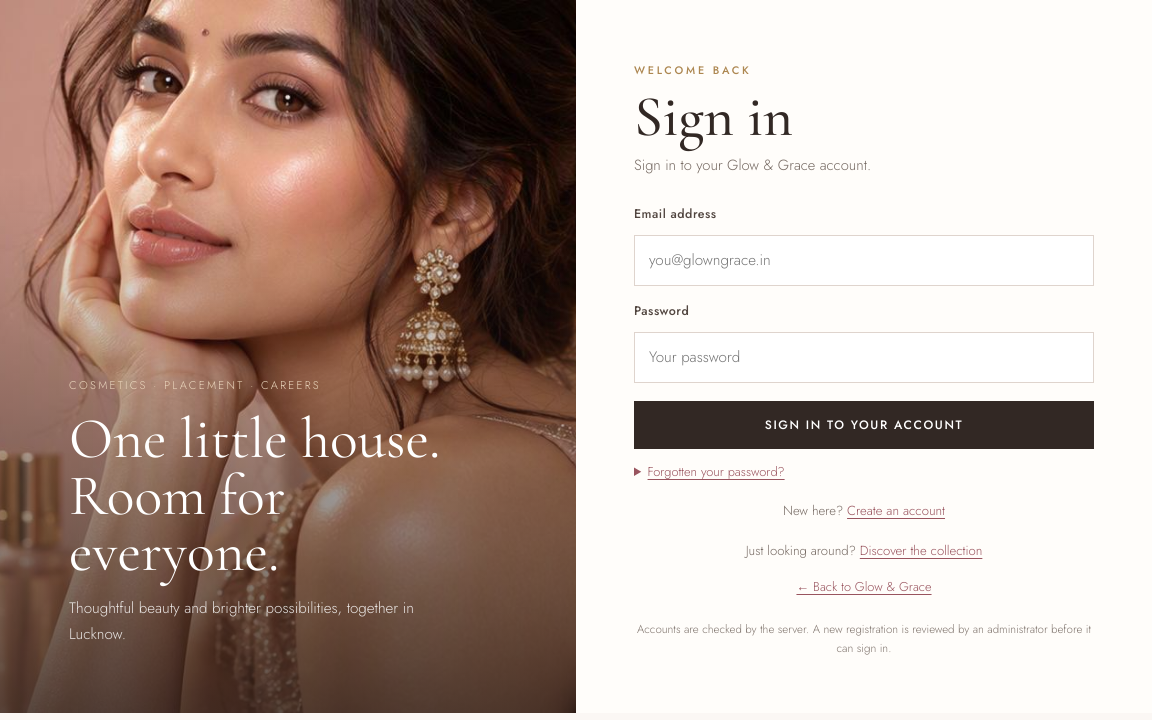
Test: console sign-in and session lifetime › reports the server reason when the address does not match an account
Type "candidate@glowngrace.in" into the field labelled "Email address".
click(864, 260); type("candidate@glowngrace.in")  # box [634, 235, 1094, 286]
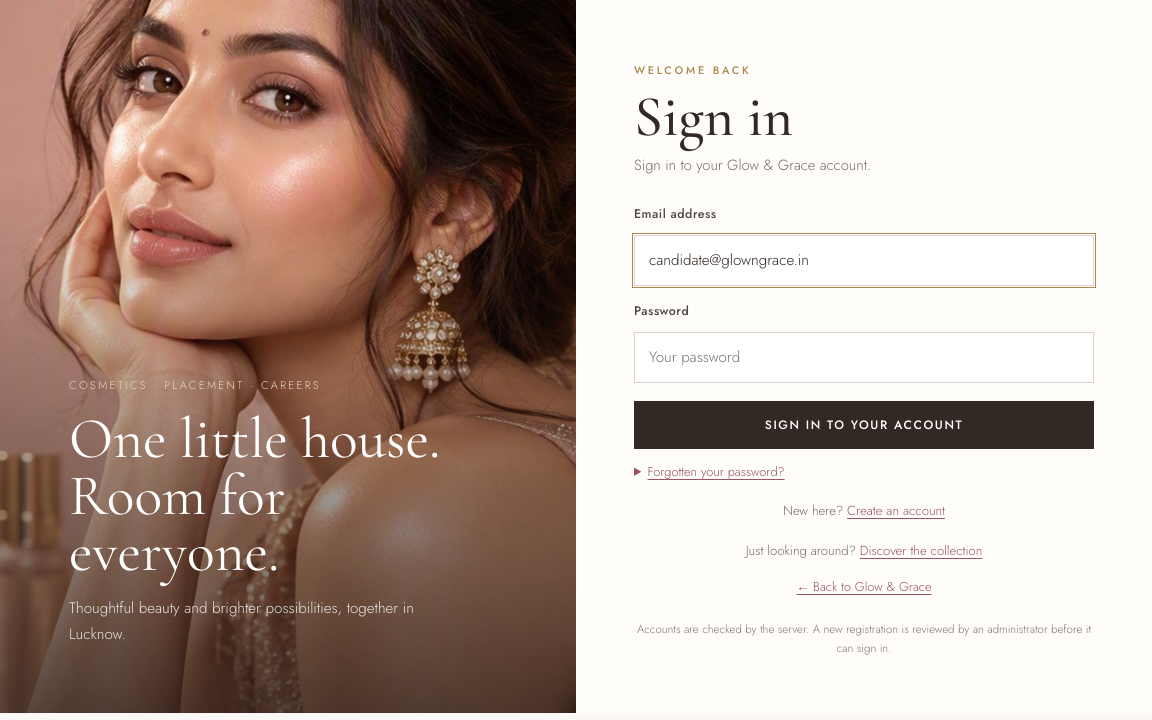
Type "a-password-nobody-has" into the password field labelled "Password".
click(864, 358); type("a-password-nobody-has")  # box [634, 332, 1094, 383]
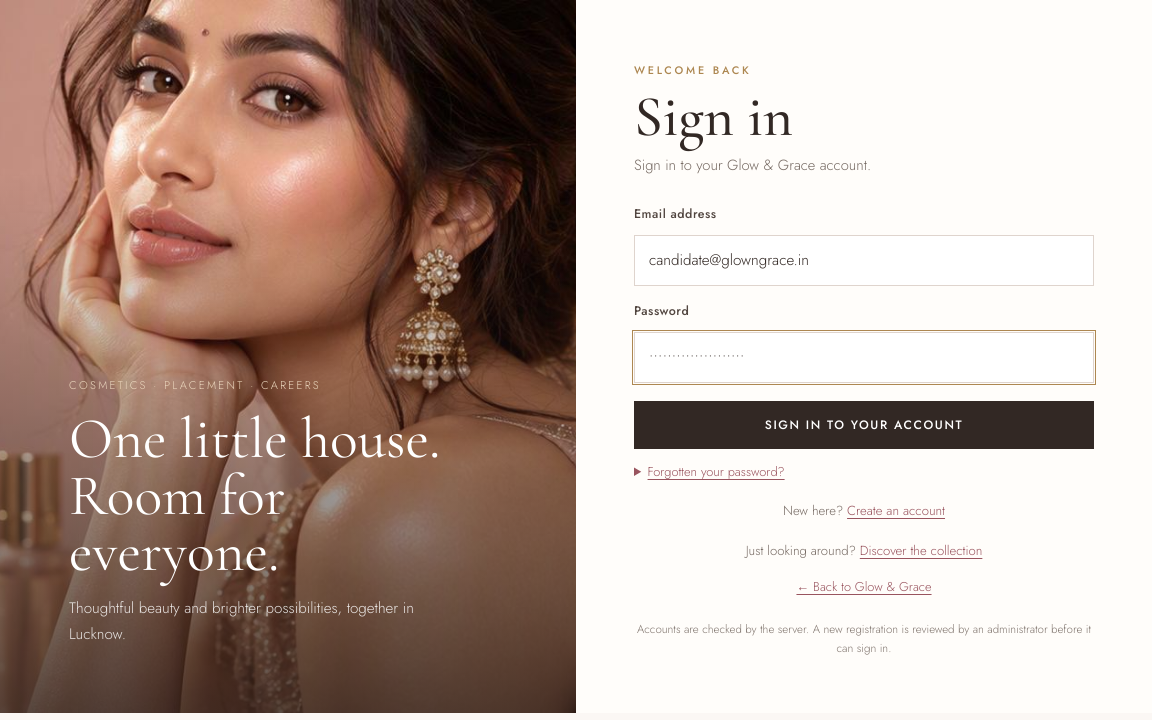
Click the button "Sign in to your account".
click(864, 426)  # box [634, 402, 1094, 450]
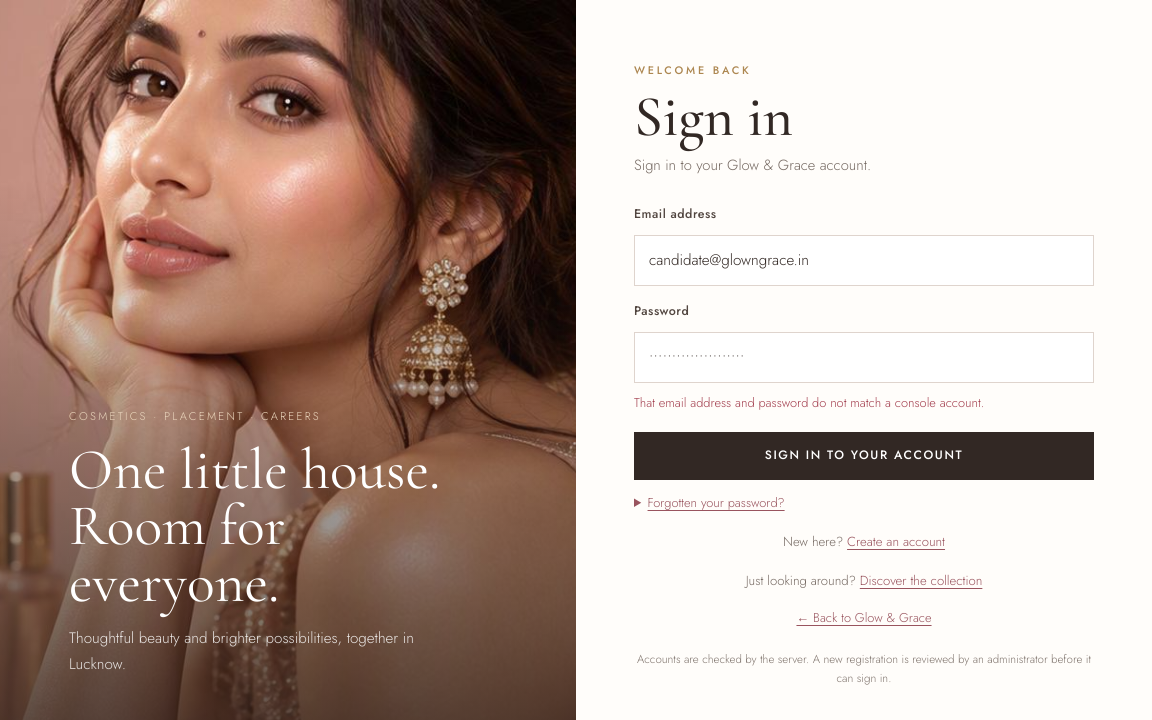
Check: the message shows "do not match a console account", box [634, 394, 984, 412]
